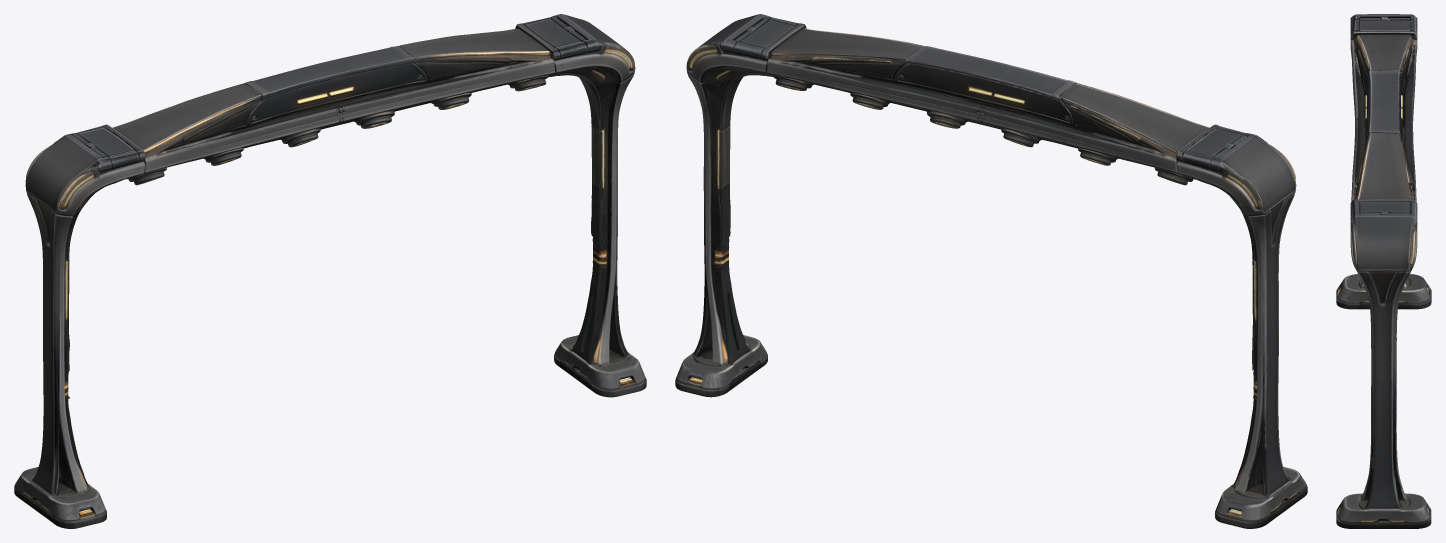
Rendered from sign-c.glb.
3 renders of one model, left to right at view 1: azimuth 30°, elevation 25°; view 2: azimuth 150°, elevation 25°; view 3: azimuth 270°, elevation 25°, orthographic. The views are drawn at different scales.
Visible parts, largest first — view 1: tripo_node_528fca8c-aa82-4e54-8b7a-64c2ba8ad2bc; view 2: tripo_node_528fca8c-aa82-4e54-8b7a-64c2ba8ad2bc; view 3: tripo_node_528fca8c-aa82-4e54-8b7a-64c2ba8ad2bc.
Boxes of the visible parts, x1,y1,x2,y2 form: tripo_node_528fca8c-aa82-4e54-8b7a-64c2ba8ad2bc: (14, 14, 646, 528); tripo_node_528fca8c-aa82-4e54-8b7a-64c2ba8ad2bc: (675, 14, 1307, 528); tripo_node_528fca8c-aa82-4e54-8b7a-64c2ba8ad2bc: (1336, 14, 1431, 528).
Bounding box in the file's own units: 0.9803 × 0.5902 × 0.1647.
1 material, 1 textured.
